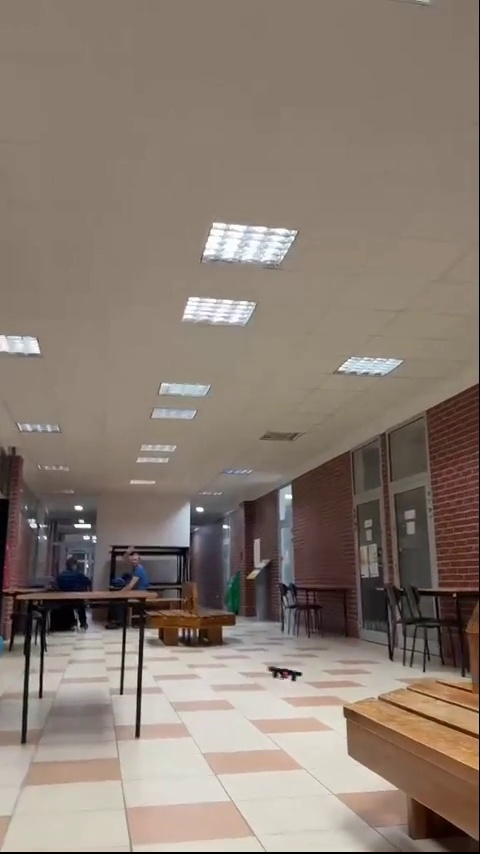drone: (269, 666, 302, 683)
no vest: (53, 543, 90, 597), (113, 552, 148, 592)
